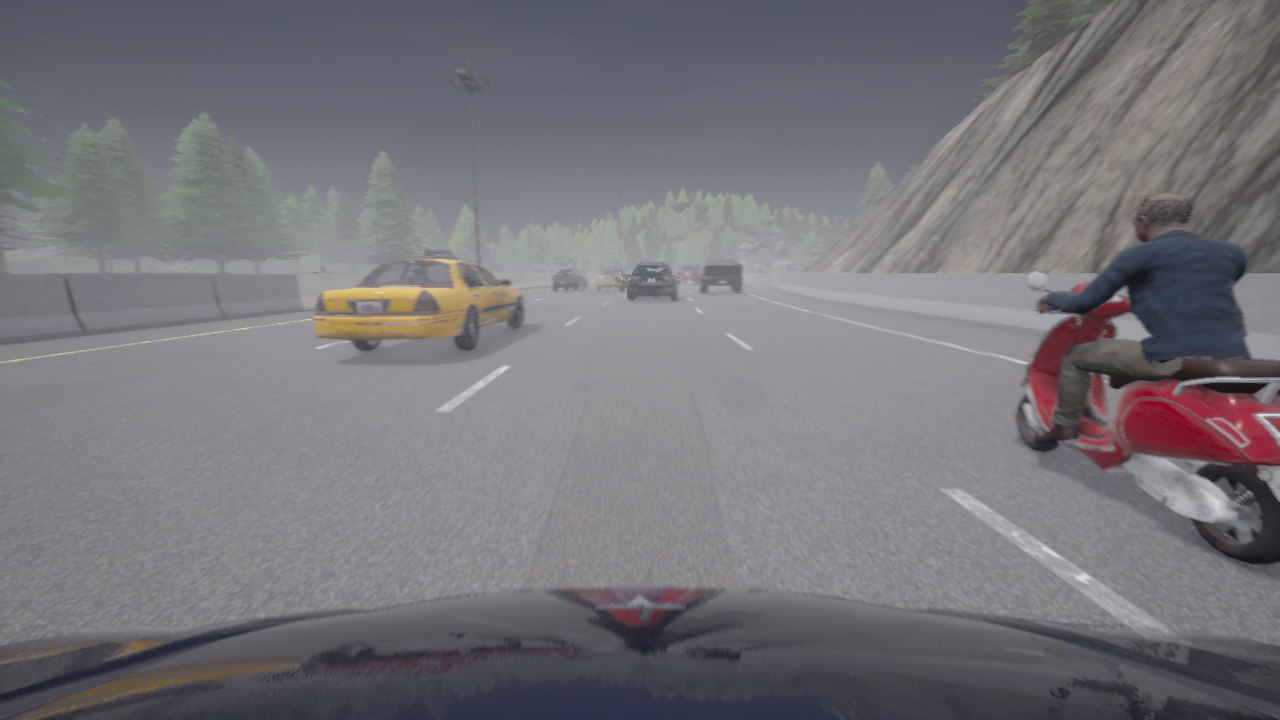cyclist: (0, 588, 1279, 719), (1015, 270, 1279, 564), (313, 251, 523, 351), (628, 263, 677, 300), (699, 259, 742, 293), (595, 268, 629, 291), (552, 270, 588, 290), (677, 265, 701, 284)
